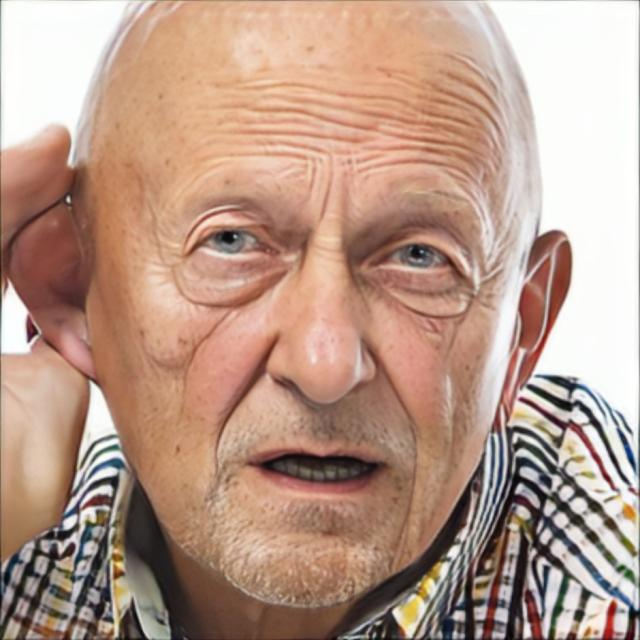disgust: (85, 0, 543, 609)
